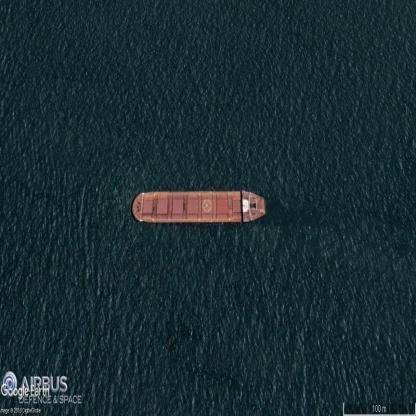ship: (132, 190, 266, 224)
